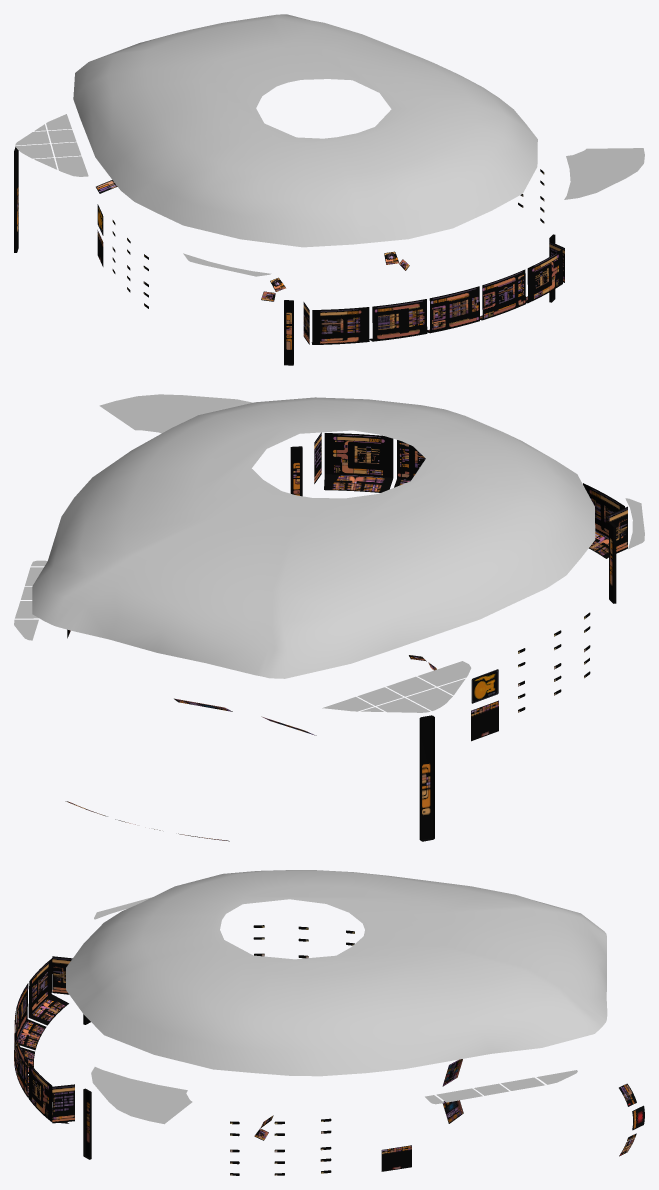
Rendered from unlit.obj.
3 views of the same model, one above another, from view 1: azimuth 30°, elevation 25°; view 2: azimuth 150°, elevation 25°; view 3: azimuth 270°, elevation 25° (orthographic). The views are drawn at different scales.
Parts seen in each view (by area): view 1: Combined_Mesh_(root:_scene)_25.002, Combined_Mesh_(root:_scene)_26.002, Combined_Mesh_(root:_scene)_4.002, Combined_Mesh_(root:_scene)_9.002; view 2: Combined_Mesh_(root:_scene)_25.002, Combined_Mesh_(root:_scene)_4.002, Combined_Mesh_(root:_scene)_26.002, Combined_Mesh_(root:_scene)_9.002, Consoles_2, Combined_Mesh_(root:_scene)_13.002, Combined_Mesh_(root:_scene)_0.002; view 3: Combined_Mesh_(root:_scene)_25.002, Combined_Mesh_(root:_scene)_4.002, Combined_Mesh_(root:_scene)_26.002, Consoles_2, Combined_Mesh_(root:_scene)_13.002, Combined_Mesh_(root:_scene)_9.002, Combined_Mesh_(root:_scene)_8.002, Combined_Mesh_(root:_scene)_18.002.
Part boxes in pixels (bbox=[...]): Combined_Mesh_(root:_scene)_25.002: bbox=[73, 14, 537, 247]; Combined_Mesh_(root:_scene)_26.002: bbox=[303, 241, 564, 344]; Combined_Mesh_(root:_scene)_4.002: bbox=[15, 114, 644, 276]; Combined_Mesh_(root:_scene)_9.002: bbox=[14, 146, 555, 365]; Combined_Mesh_(root:_scene)_25.002: bbox=[32, 397, 595, 678]; Combined_Mesh_(root:_scene)_4.002: bbox=[14, 394, 644, 712]; Combined_Mesh_(root:_scene)_26.002: bbox=[314, 432, 627, 553]; Combined_Mesh_(root:_scene)_9.002: bbox=[290, 446, 616, 841]; Consoles_2: bbox=[324, 474, 608, 558]; Combined_Mesh_(root:_scene)_13.002: bbox=[67, 629, 498, 741]; Combined_Mesh_(root:_scene)_0.002: bbox=[471, 669, 498, 703]; Combined_Mesh_(root:_scene)_25.002: bbox=[66, 870, 607, 1076]; Combined_Mesh_(root:_scene)_4.002: bbox=[91, 897, 577, 1124]; Combined_Mesh_(root:_scene)_26.002: bbox=[14, 956, 74, 1123]; Consoles_2: bbox=[15, 994, 68, 1123]; Combined_Mesh_(root:_scene)_13.002: bbox=[381, 1145, 411, 1171]; Combined_Mesh_(root:_scene)_9.002: bbox=[83, 1014, 91, 1159]; Combined_Mesh_(root:_scene)_8.002: bbox=[619, 1083, 644, 1141]; Combined_Mesh_(root:_scene)_18.002: bbox=[230, 1118, 331, 1175].
Bounding box in the file's own units: 11.44 × 4.41 × 13.12.
